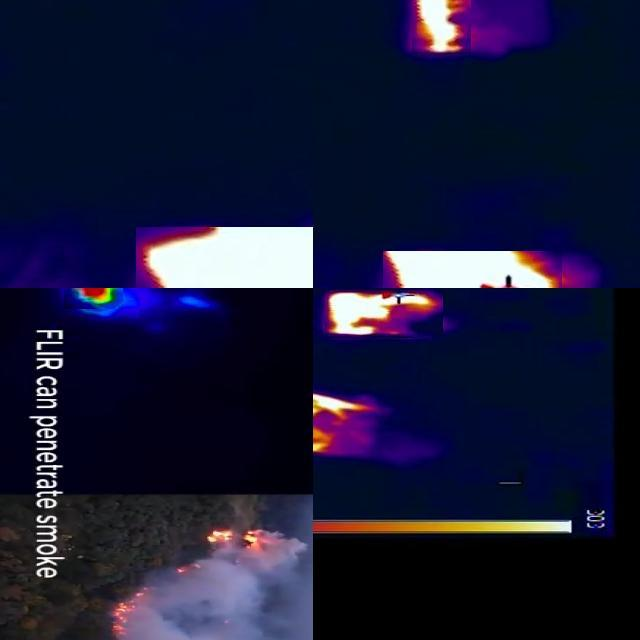fire: (137, 227, 314, 289), (384, 251, 563, 289), (326, 290, 444, 338), (314, 390, 371, 456), (413, 1, 472, 54), (65, 289, 124, 309)
